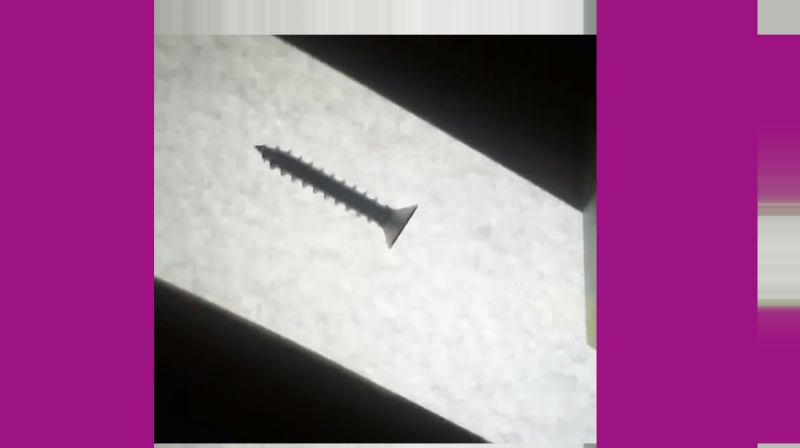S001: (253, 135, 421, 252)
